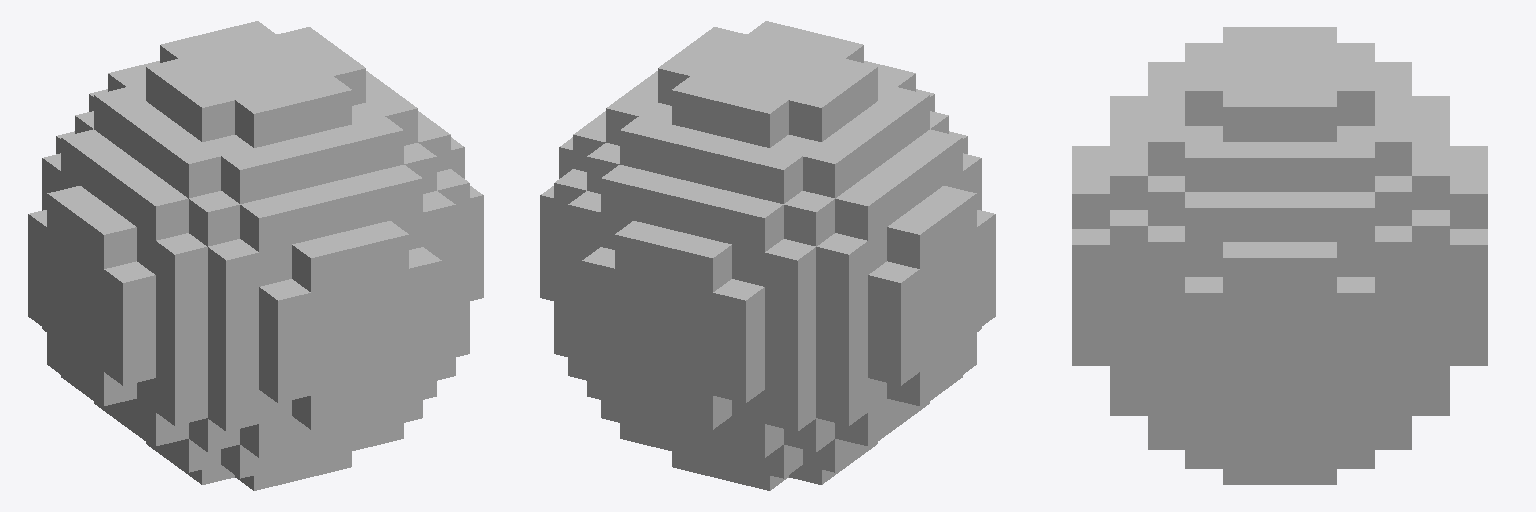
The model's file is neonelemental.obj.
The picture shows the model from 3 angles: view 1: azimuth 30°, elevation 25°; view 2: azimuth 150°, elevation 25°; view 3: azimuth 270°, elevation 25°; orthographic projection.
Parts seen in each view (by area): view 1: yellow_concrete; view 2: yellow_concrete; view 3: yellow_concrete.
Boxes of the visible parts, x1=… form: yellow_concrete: x1=28, y1=21, x2=483, y2=490; yellow_concrete: x1=540, y1=21, x2=995, y2=490; yellow_concrete: x1=1072, y1=27, x2=1487, y2=484.
Bounding box in the file's own units: 0.6875 × 0.6875 × 0.6875.